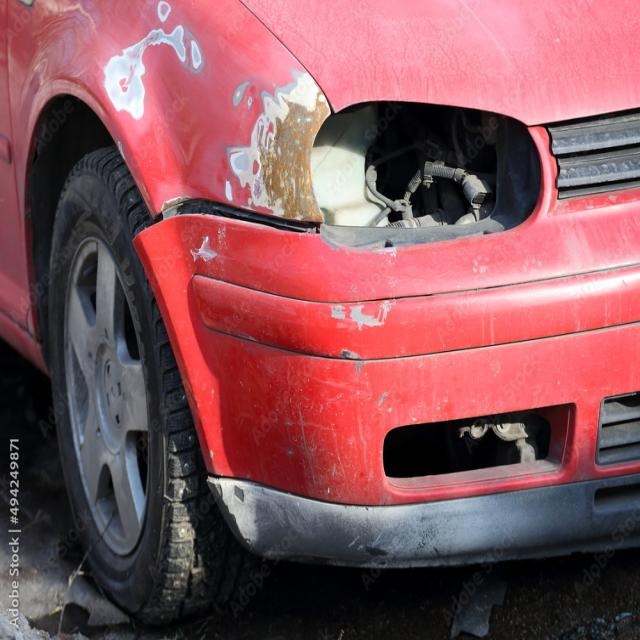Head Light: (245, 108, 601, 338)
